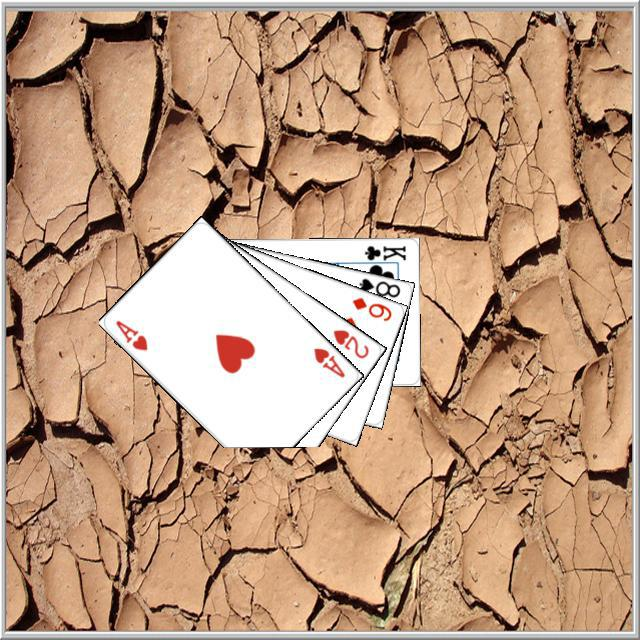2h: (328, 324, 371, 360)
6d: (347, 292, 393, 323)
8s: (354, 273, 402, 299)
Ah: (111, 315, 149, 352), (308, 343, 347, 379)
Kc: (355, 241, 407, 266)
